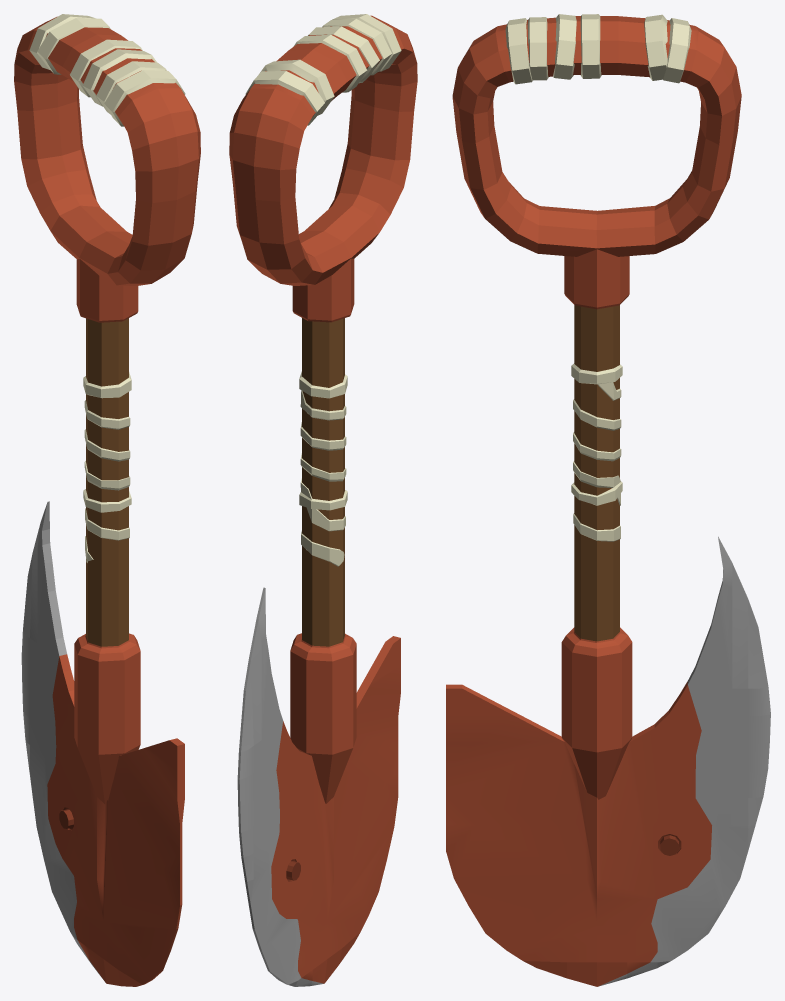
Rendered from Shvax.fbx.
3 renders of one model, left to right at view 1: azimuth 30°, elevation 25°; view 2: azimuth 150°, elevation 25°; view 3: azimuth 270°, elevation 25°, orthographic. The views are drawn at different scales.
Visible parts, largest first — view 1: pCylinder22; view 2: pCylinder22; view 3: pCylinder22.
Boxes of the visible parts, x1,y1,x2,y2 form: pCylinder22: (14,14,200,986); pCylinder22: (229,14,417,986); pCylinder22: (446,14,770,986).
Size of the model in its own units: 3.57 by 43.82 by 13.34.
